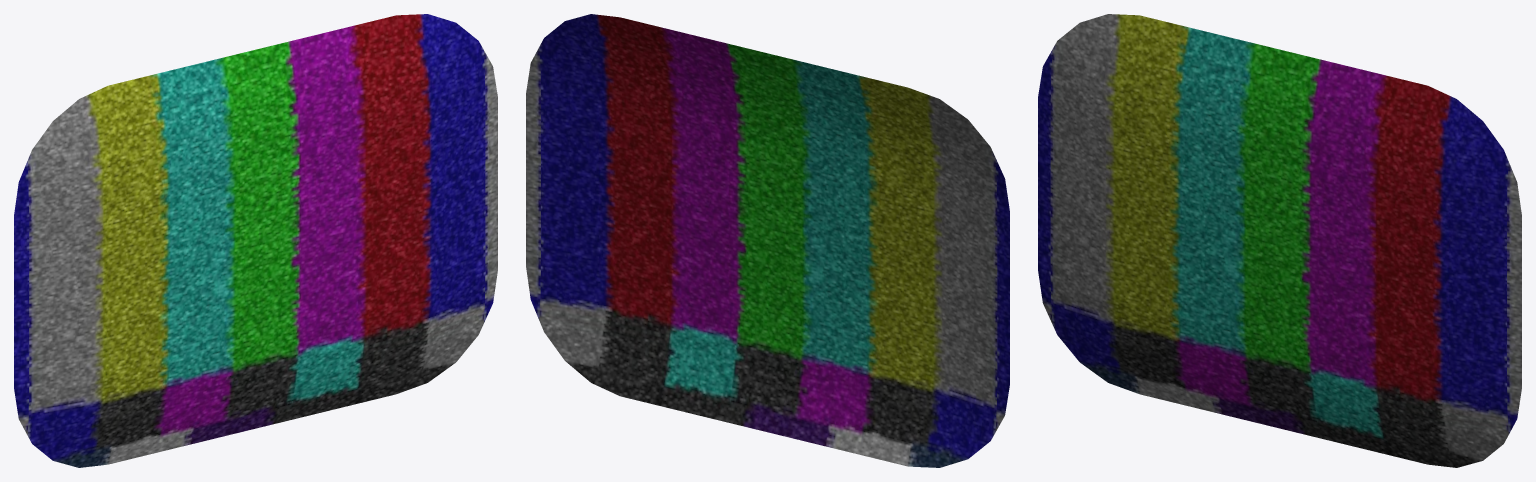
File: NOORDER.fbx
The picture shows the model from 3 angles, left to right: view 1: azimuth 30°, elevation 25°; view 2: azimuth 150°, elevation 25°; view 3: azimuth 330°, elevation 25°; orthographic projection.
Visible parts, largest first — view 1: No Order Screen; view 2: No Order Screen; view 3: No Order Screen.
Boxes of the visible parts, x1=… form: No Order Screen: x1=14, y1=14, x2=497, y2=467; No Order Screen: x1=526, y1=14, x2=1009, y2=467; No Order Screen: x1=1038, y1=14, x2=1521, y2=467.
Size of the model in its own units: 165 by 123 by 6.26.
Materials: 1 (1 with a texture image).
